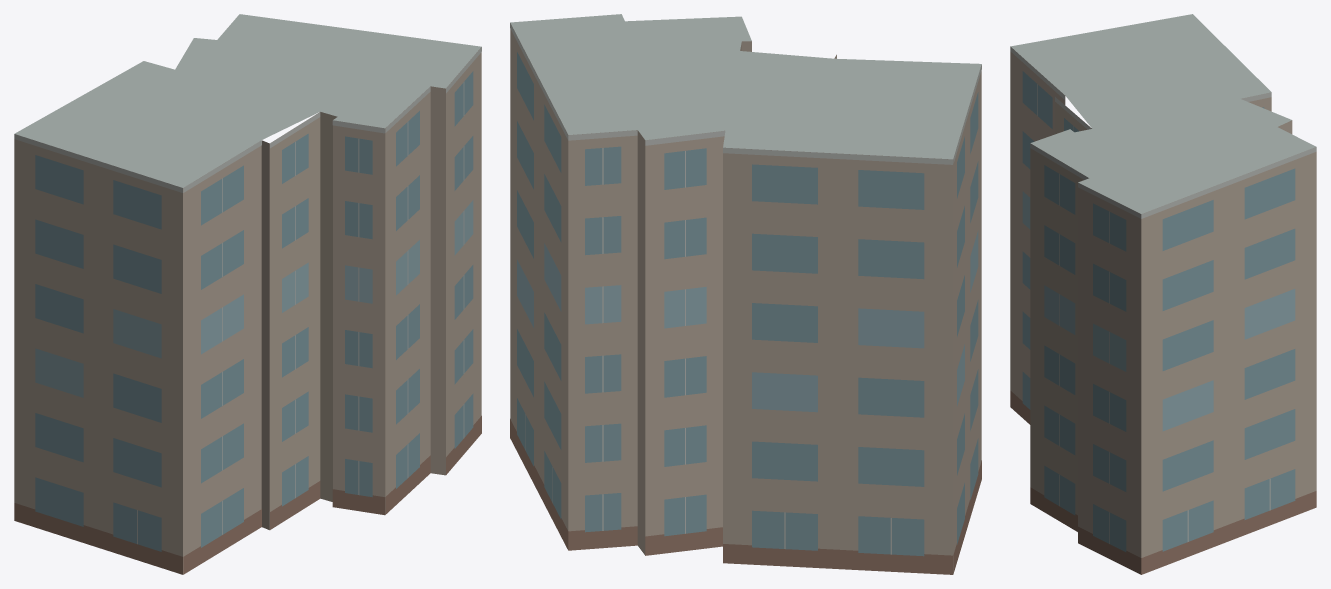
The model's file is survey-upis-32593878.glb.
3 views of the same model, side by side, from view 1: azimuth 30°, elevation 25°; view 2: azimuth 150°, elevation 25°; view 3: azimuth 270°, elevation 25° (orthographic). The views are drawn at different scales.
Visible parts, largest first — view 1: survey-upis-32593878.tmp; view 2: survey-upis-32593878.tmp; view 3: survey-upis-32593878.tmp.
Part boxes in pixels (x1,y1,x2,y2): survey-upis-32593878.tmp: (14,14,481,574); survey-upis-32593878.tmp: (510,14,981,574); survey-upis-32593878.tmp: (1010,14,1316,574).
Size of the model in its own units: 21.67 by 18.2 by 14.01.
